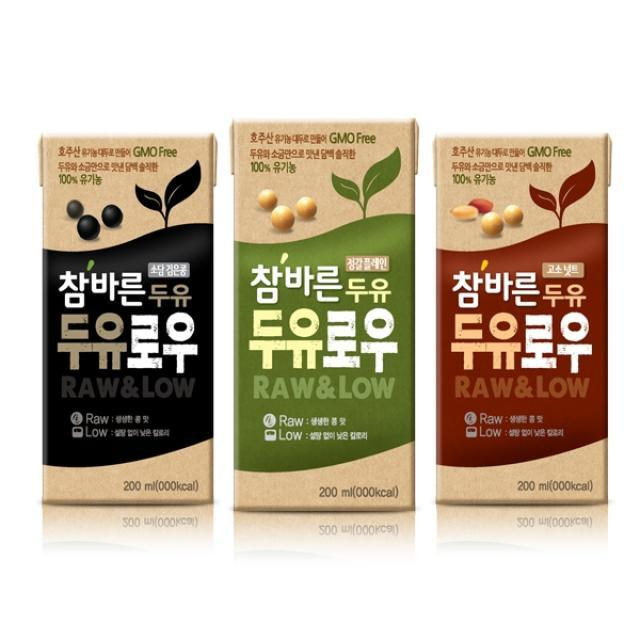Tetra: (222, 105, 420, 546), (24, 108, 226, 536), (430, 116, 620, 551)
